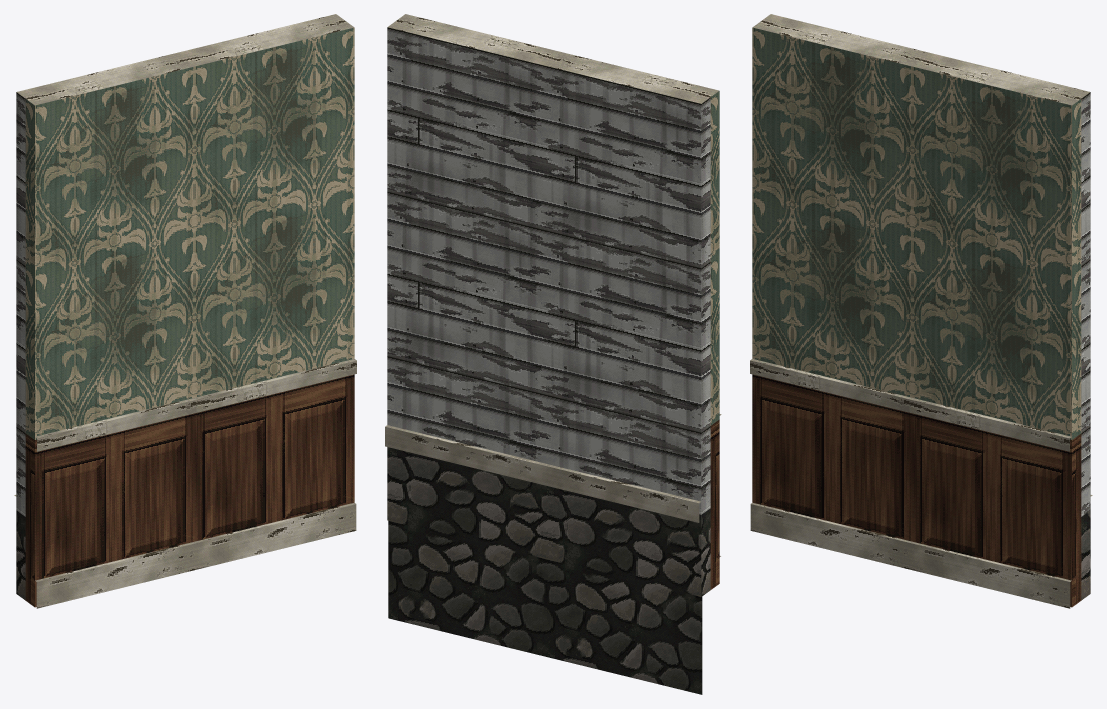
Rendered from house_wall_ext.glb.
3 renders of one model, left to right at view 1: azimuth 30°, elevation 25°; view 2: azimuth 150°, elevation 25°; view 3: azimuth 330°, elevation 25°, orthographic.
Visible parts, largest first — view 1: house_wall_ext; view 2: house_wall_ext; view 3: house_wall_ext.
Part boxes in pixels (bbox=[...]): house_wall_ext: bbox=[14, 14, 356, 608]; house_wall_ext: bbox=[385, 14, 721, 694]; house_wall_ext: bbox=[750, 14, 1092, 608].
Size of the model in its own units: 2 by 3.6 by 0.25.
Materials: 5 (5 with a texture image).
